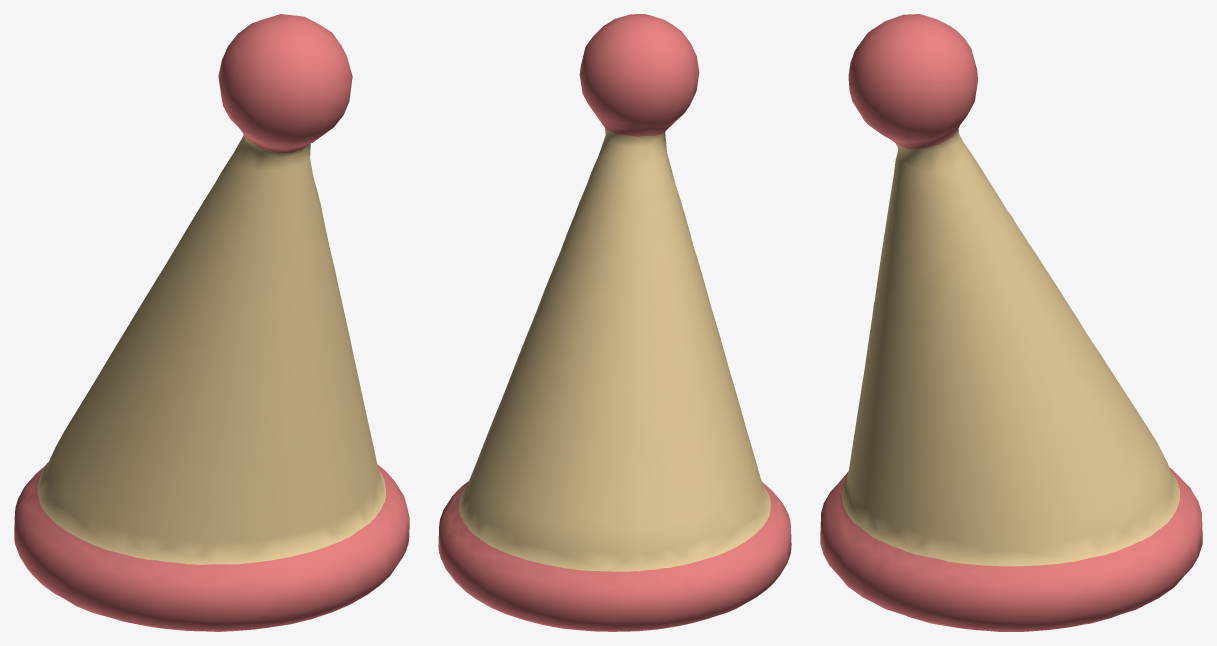
File: acc_partyhat.glb
3 views of the same model, side by side, from view 1: azimuth 30°, elevation 25°; view 2: azimuth 150°, elevation 25°; view 3: azimuth 270°, elevation 25° (orthographic). The views are drawn at different scales.
Visible parts, largest first — view 1: body; view 2: body; view 3: body.
Part boxes in pixels (box(x1,y1,x2,y2)): body: box(14, 14, 409, 631); body: box(438, 14, 791, 631); body: box(820, 14, 1202, 631).
Size of the model in its own units: 0.2929 by 0.4674 by 0.2929.
